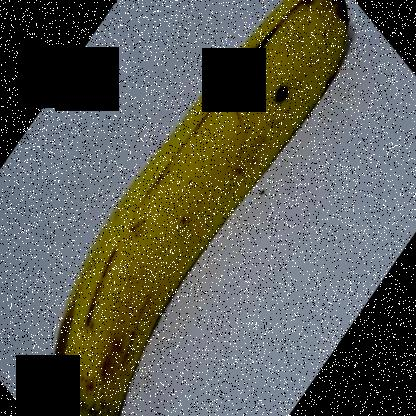ripe: (30, 0, 356, 415)
